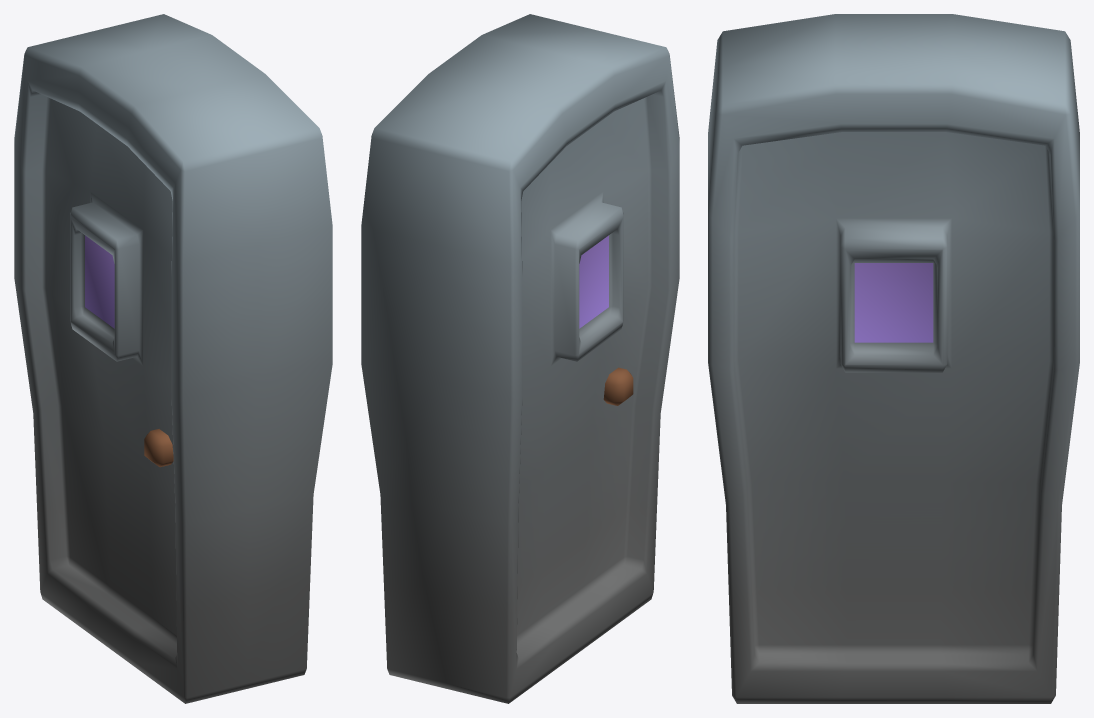
File: Door_Grey.fbx
The picture shows the model from 3 angles, left to right: view 1: azimuth 30°, elevation 25°; view 2: azimuth 150°, elevation 25°; view 3: azimuth 270°, elevation 25°; orthographic projection. The views are drawn at different scales.
Visible parts, largest first — view 1: Door_Grey; view 2: Door_Grey; view 3: Door_Grey.
Boxes of the visible parts, x1=… form: Door_Grey: x1=14, y1=14, x2=332, y2=703; Door_Grey: x1=361, y1=14, x2=679, y2=703; Door_Grey: x1=708, y1=14, x2=1079, y2=703.
Bounding box in the file's own units: 127 × 425 × 230.
